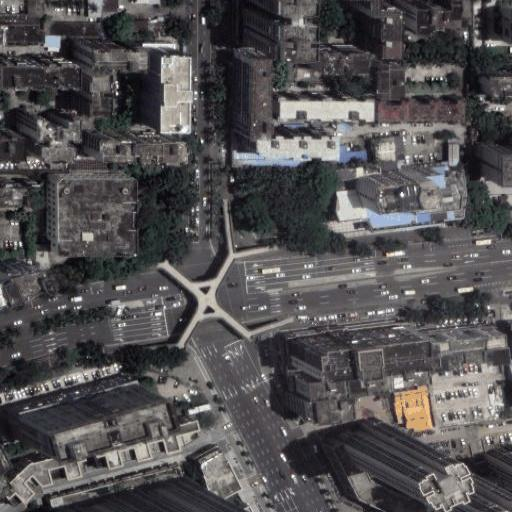building: (2, 419, 203, 502), (324, 440, 512, 512), (11, 376, 135, 437), (48, 462, 187, 512), (47, 173, 125, 251), (291, 324, 414, 369), (58, 477, 193, 512), (276, 357, 404, 388), (369, 197, 461, 229), (419, 455, 472, 506), (421, 324, 493, 361), (335, 420, 387, 471), (142, 48, 173, 125), (353, 174, 419, 210), (90, 128, 178, 154), (195, 449, 239, 500), (28, 103, 70, 156), (274, 92, 370, 114), (256, 137, 339, 162), (476, 440, 512, 491), (237, 45, 259, 126), (243, 0, 286, 39), (50, 21, 146, 38), (0, 54, 77, 75), (415, 169, 458, 202), (395, 390, 429, 431), (276, 383, 329, 409), (370, 136, 406, 172), (0, 250, 32, 284), (370, 6, 392, 53), (376, 64, 404, 100), (82, 46, 135, 65), (82, 73, 106, 114), (336, 189, 363, 222), (485, 140, 512, 172), (233, 153, 294, 167), (0, 15, 32, 39), (323, 56, 367, 73), (0, 178, 35, 198), (481, 73, 511, 96), (379, 104, 409, 123), (408, 103, 437, 122), (437, 103, 464, 122), (339, 145, 367, 163), (409, 1, 425, 25), (296, 67, 321, 82), (0, 126, 18, 145), (335, 167, 365, 178), (86, 0, 102, 17), (187, 404, 209, 415), (447, 144, 459, 164), (44, 37, 62, 47), (102, 0, 117, 11), (337, 123, 352, 132), (283, 124, 309, 127), (448, 138, 459, 144), (48, 47, 62, 51)
